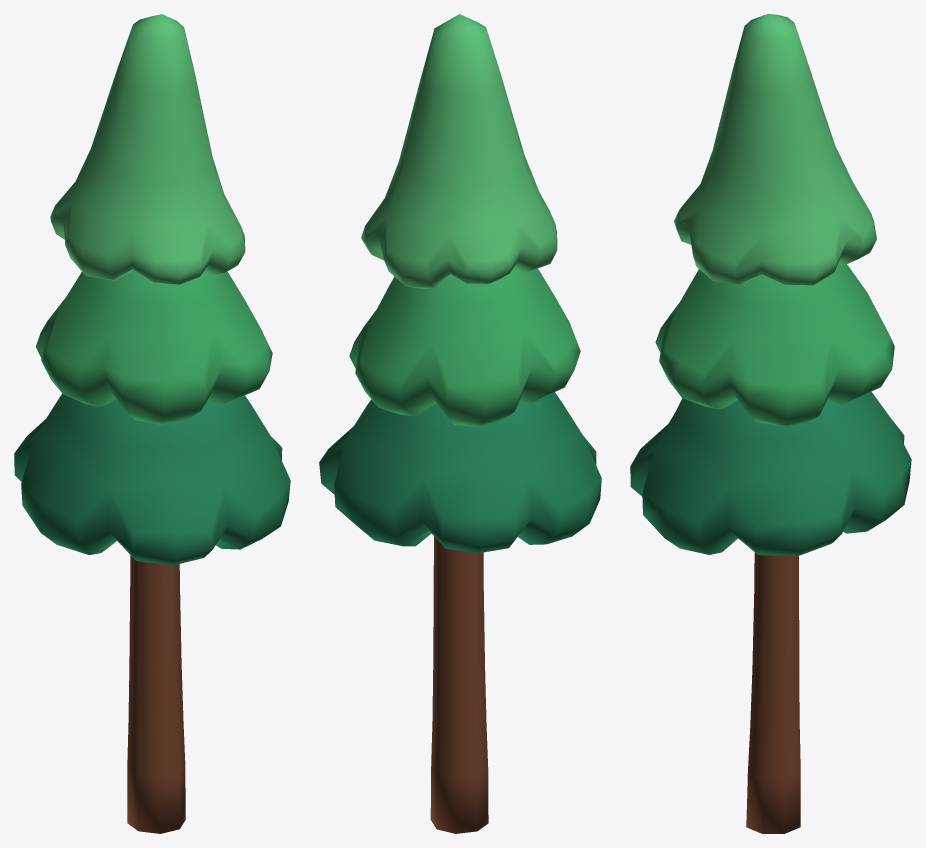
The model's file is Conifer_05_LOD2.gltf.
3 views of the same model, side by side, from view 1: azimuth 30°, elevation 25°; view 2: azimuth 150°, elevation 25°; view 3: azimuth 270°, elevation 25° (orthographic).
Visible parts, largest first — view 1: Conifer_05_LOD2_Cylinder.608; view 2: Conifer_05_LOD2_Cylinder.608; view 3: Conifer_05_LOD2_Cylinder.608.
Boxes of the visible parts, <box> form: Conifer_05_LOD2_Cylinder.608: <box>14,14,290,833</box>; Conifer_05_LOD2_Cylinder.608: <box>319,14,601,833</box>; Conifer_05_LOD2_Cylinder.608: <box>630,14,911,833</box>.
Size of the model in its own units: 5.13 by 16.29 by 5.12.
1 material, 1 textured.
